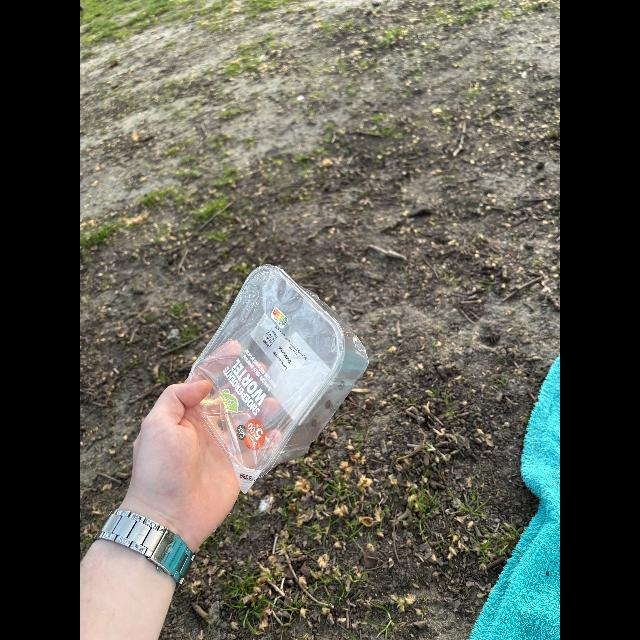Plastic: (192, 262, 372, 486)
